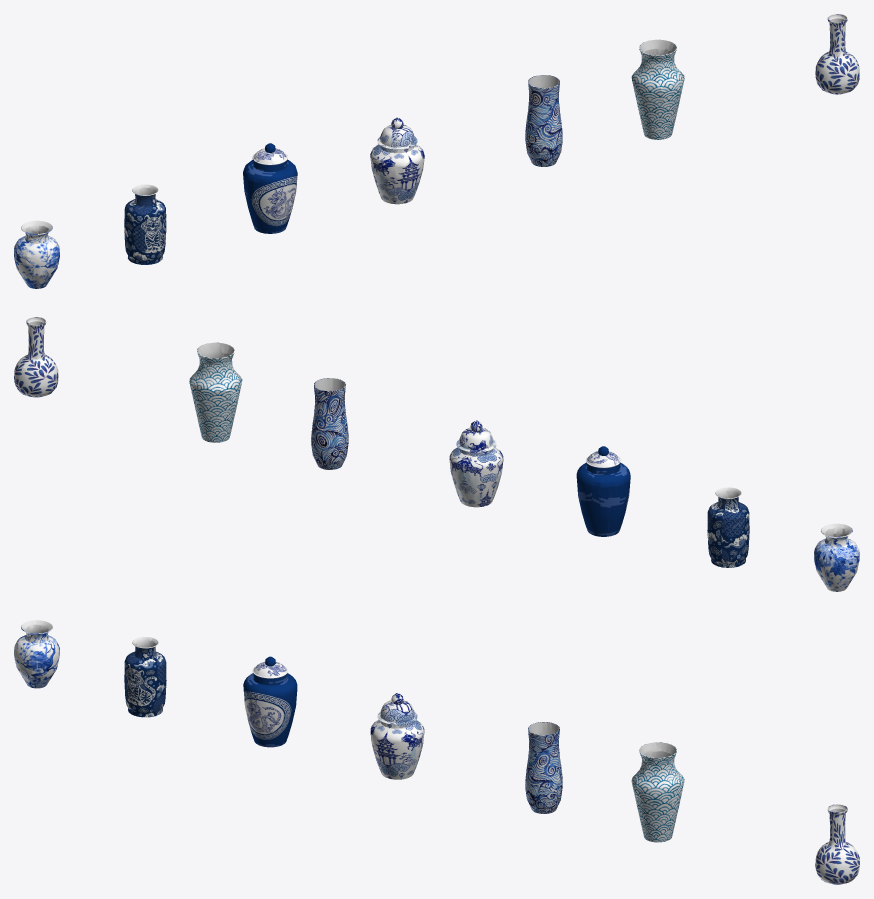
File: kirik.fbx
The picture shows the model from 3 angles, top to bottom: view 1: azimuth 30°, elevation 25°; view 2: azimuth 150°, elevation 25°; view 3: azimuth 330°, elevation 25°; orthographic projection.
Parts seen in each view (by area): view 1: polySurface22198_pl_chunk5, pCylinder71930_pl_chunk7, pCylinder71930_pl_chunk3, polySurface241611_pl_chunk3, polySurface25, pCylinder61455_pl_chunk8, pCylinder51706_pl_chunk5, pCylinder71930_pl_chunk5, pCylinder81172_pl_chunk3, pCylinder31577_pl_chunk4, polySurface241611_pl_chunk7, pCylinder31577_pl_chunk15 (+2 smaller); view 2: polySurface241611_pl_chunk6, pCylinder71930_pl_chunk2, pCylinder51706_pl_chunk2, polySurface22198_pl_chunk7, pCylinder71930_pl_chunk4, polySurface25, polySurface22198_pl_chunk9, pCylinder51706_pl_chunk4, pCylinder81172_pl_chunk3, polySurface22198_pl_chunk4, pCylinder61455_pl_chunk2, pCylinder71930_pl_chunk7 (+4 smaller); view 3: pCylinder71930_pl_chunk5, polySurface241611_pl_chunk7, pCylinder71930_pl_chunk3, polySurface22198_pl_chunk5, pCylinder81172_pl_chunk6, polySurface25, pCylinder51706_pl_chunk6, polySurface22198_pl_chunk10, polySurface241616, polySurface22198_pl_chunk6, pCylinder51706_pl_chunk5, pCylinder61455_pl_chunk2 (+2 smaller).
Boxes of the visible parts, bbox=[...] form: polySurface22198_pl_chunk5: bbox=[252, 171, 295, 221]; pCylinder71930_pl_chunk7: bbox=[631, 47, 665, 101]; pCylinder71930_pl_chunk3: bbox=[640, 93, 681, 139]; polySurface241611_pl_chunk3: bbox=[373, 172, 414, 204]; polySurface25: bbox=[377, 117, 417, 149]; pCylinder61455_pl_chunk8: bbox=[527, 77, 556, 121]; pCylinder51706_pl_chunk5: bbox=[22, 233, 54, 275]; pCylinder71930_pl_chunk5: bbox=[659, 45, 684, 100]; pCylinder81172_pl_chunk3: bbox=[815, 54, 839, 94]; pCylinder31577_pl_chunk4: bbox=[130, 233, 160, 264]; polySurface241611_pl_chunk7: bbox=[401, 146, 424, 194]; pCylinder31577_pl_chunk15: bbox=[127, 203, 163, 236]; polySurface241611_pl_chunk6: bbox=[460, 452, 503, 501]; pCylinder71930_pl_chunk2: bbox=[197, 402, 236, 442]; pCylinder51706_pl_chunk2: bbox=[815, 554, 853, 591]; polySurface22198_pl_chunk7: bbox=[577, 487, 614, 536]; pCylinder71930_pl_chunk4: bbox=[190, 381, 231, 419]; polySurface25: bbox=[456, 420, 496, 452]; polySurface22198_pl_chunk9: bbox=[576, 463, 614, 491]; pCylinder51706_pl_chunk4: bbox=[817, 536, 859, 561]; pCylinder81172_pl_chunk3: bbox=[32, 356, 58, 397]; polySurface22198_pl_chunk4: bbox=[601, 485, 627, 521]; pCylinder61455_pl_chunk2: bbox=[311, 428, 337, 469]; pCylinder71930_pl_chunk7: bbox=[206, 353, 242, 405]; pCylinder71930_pl_chunk5: bbox=[637, 755, 684, 812]; polySurface241611_pl_chunk7: bbox=[377, 727, 420, 776]; pCylinder71930_pl_chunk3: bbox=[635, 796, 674, 842]; polySurface22198_pl_chunk5: bbox=[243, 682, 277, 732]; pCylinder81172_pl_chunk6: bbox=[828, 820, 859, 877]; polySurface25: bbox=[377, 693, 417, 725]; pCylinder51706_pl_chunk6: bbox=[32, 644, 59, 677]; polySurface22198_pl_chunk10: bbox=[263, 676, 297, 706]; polySurface241616: bbox=[140, 669, 166, 717]; polySurface22198_pl_chunk6: bbox=[275, 699, 296, 746]; pCylinder51706_pl_chunk5: bbox=[14, 627, 35, 671]; pCylinder61455_pl_chunk2: bbox=[542, 769, 562, 813].
Size of the model in its own units: 743 by 73.19 by 41.59.
Materials: 9 (7 with a texture image).
